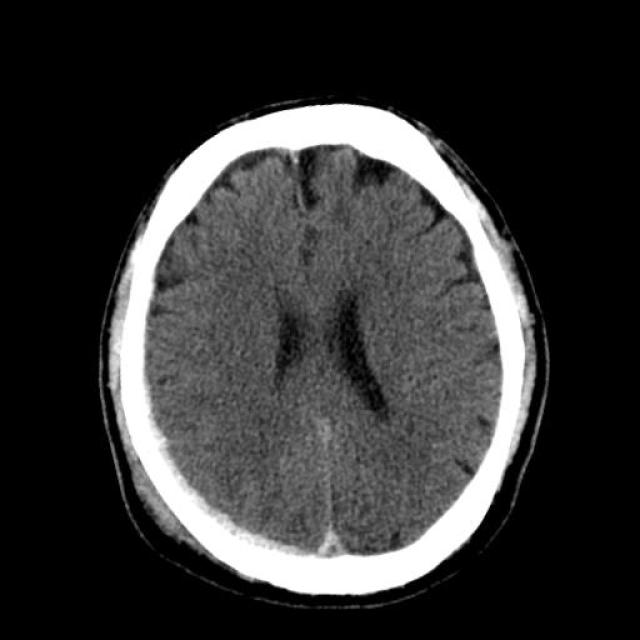Subdural: (116, 350, 316, 586)
